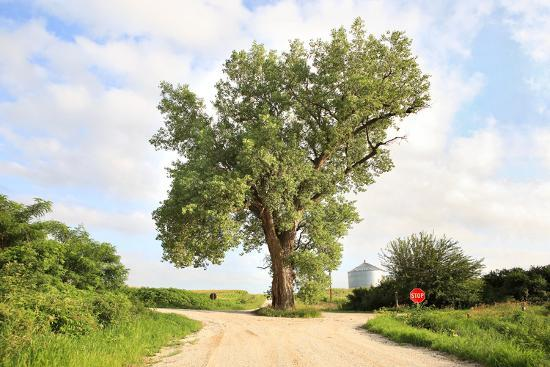tree: (148, 14, 433, 312)
